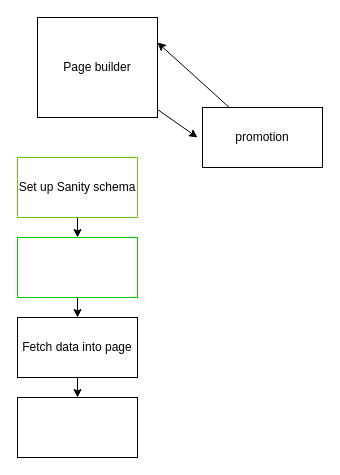
Image size: 340x475. Some labels were removed from this diagram. The shapes that lost their labels are listed below. From the top down, each one's centre as x and y in pixels, then its label:
At point (77, 267): "Set up data in page in Sanity Studio".
At point (77, 427): "UI for page".
